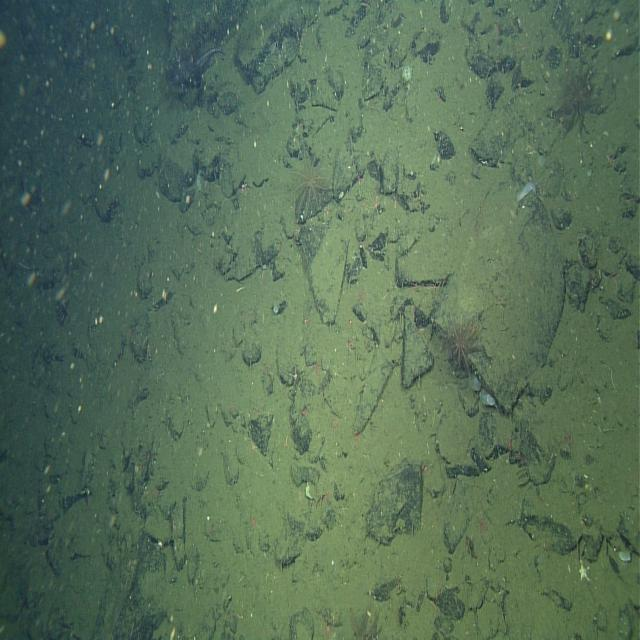Brittle Star: (366, 186, 386, 221)
Not Brittle Star: (554, 52, 600, 139), (163, 37, 228, 98), (287, 138, 334, 220), (438, 304, 483, 380), (515, 178, 538, 208), (576, 556, 592, 586), (478, 388, 498, 411)
